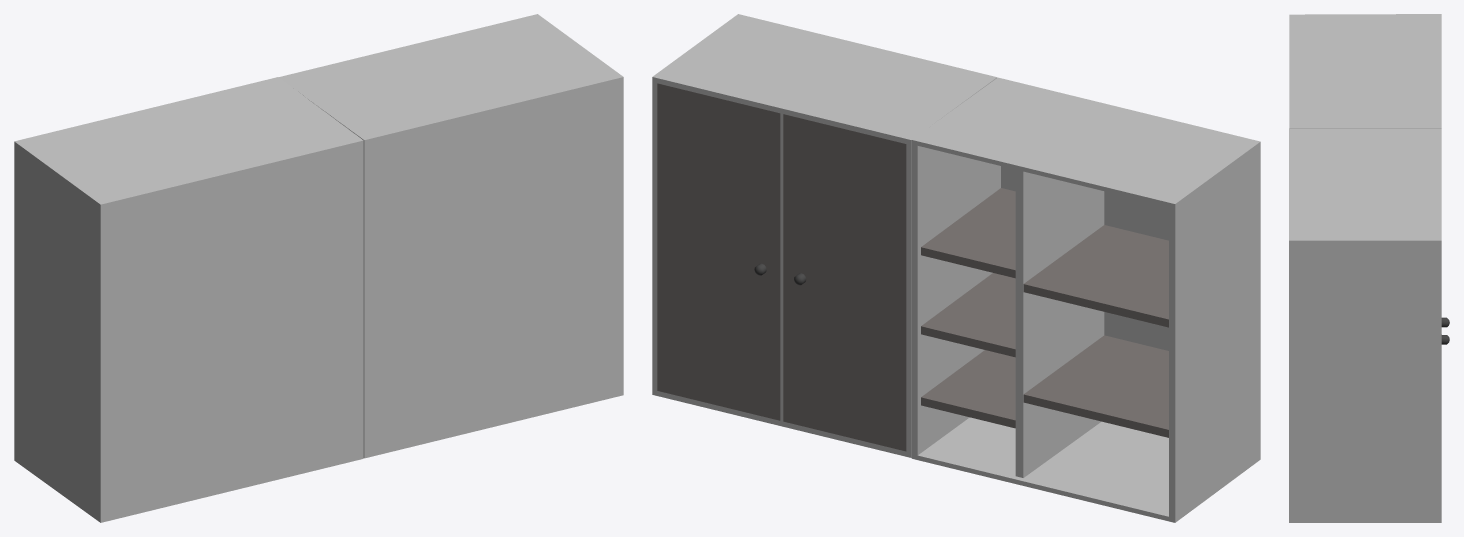
The model's file is SM_Locker_01.fbx.
The picture shows the model from 3 angles, left to right: view 1: azimuth 30°, elevation 25°; view 2: azimuth 150°, elevation 25°; view 3: azimuth 270°, elevation 25°; orthographic projection. The views are drawn at different scales.
Parts seen in each view (by area): view 1: SM_Locker_01; view 2: SM_Locker_01; view 3: SM_Locker_01.
Boxes of the visible parts, x1,y1,x2,y2 form: SM_Locker_01: (14,14,623,522); SM_Locker_01: (652,14,1260,522); SM_Locker_01: (1289,14,1449,522).
Bounding box in the file's own units: 166 × 96.53 × 49.68.
Materials: 1 (1 with a texture image).
